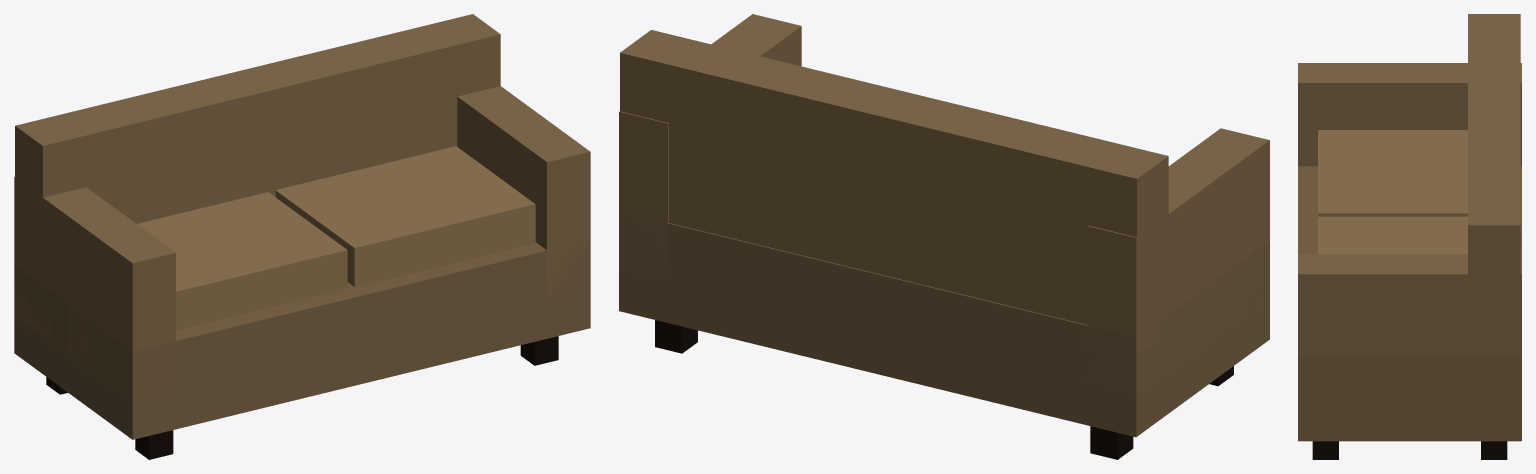
File: sofa.obj
The picture shows the model from 3 angles, left to right: view 1: azimuth 30°, elevation 25°; view 2: azimuth 150°, elevation 25°; view 3: azimuth 270°, elevation 25°; orthographic projection. The views are drawn at different scales.
Bounding box in the file's own units: 1.9 × 1.03 × 0.85.
